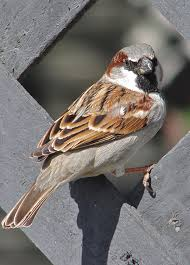hsparrow: (4, 35, 166, 247)
